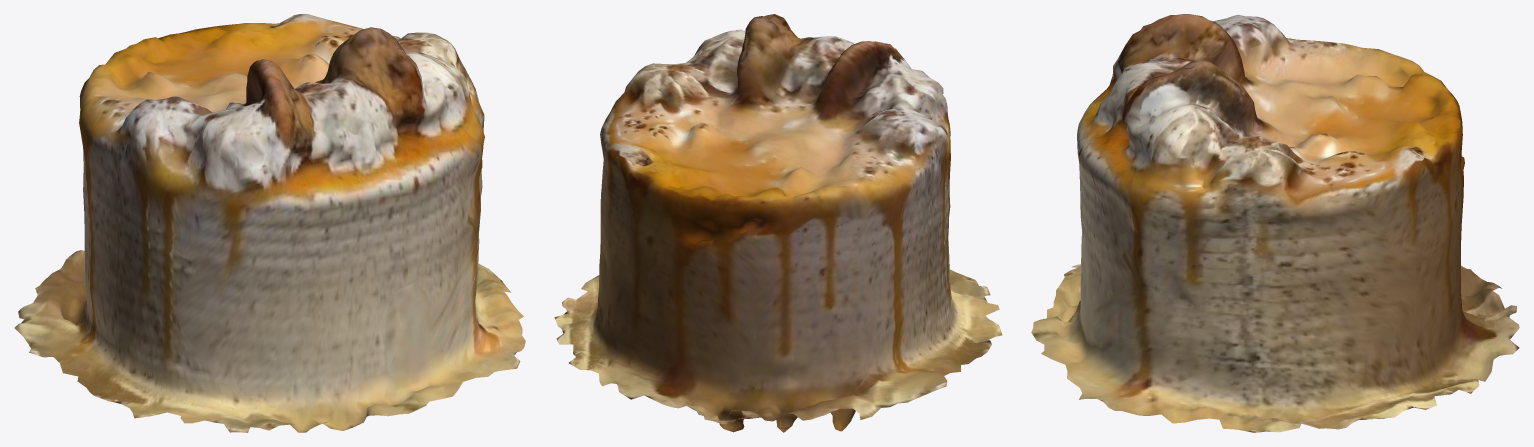
File: cooler-cake.glb
3 renders of one model, left to right at view 1: azimuth 30°, elevation 25°; view 2: azimuth 150°, elevation 25°; view 3: azimuth 270°, elevation 25°, orthographic. The views are drawn at different scales.
Visible parts, largest first — view 1: Mesh_0; view 2: Mesh_0; view 3: Mesh_0.
Boxes of the visible parts, x1,y1,x2,y2 form: Mesh_0: (14,14,525,432); Mesh_0: (554,14,1002,432); Mesh_0: (1031,14,1519,432).
Bounding box in the file's own units: 1.11 × 0.8502 × 1.12.
Materials: 1 (1 with a texture image).
